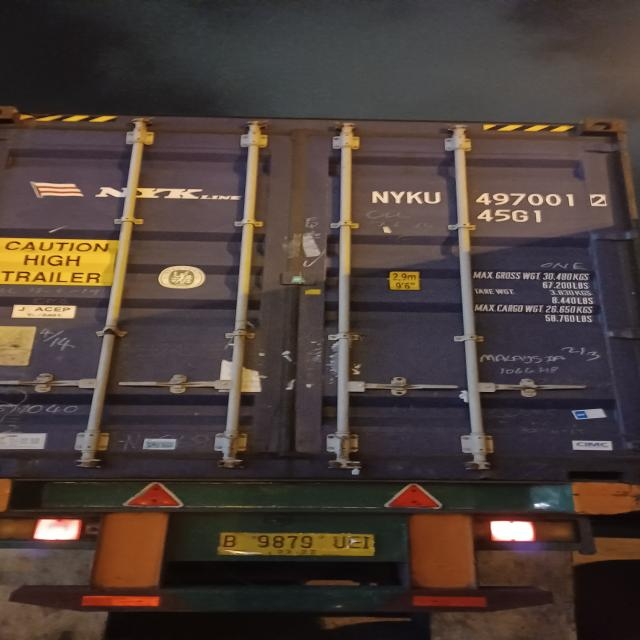seal: (340, 460, 368, 478)
